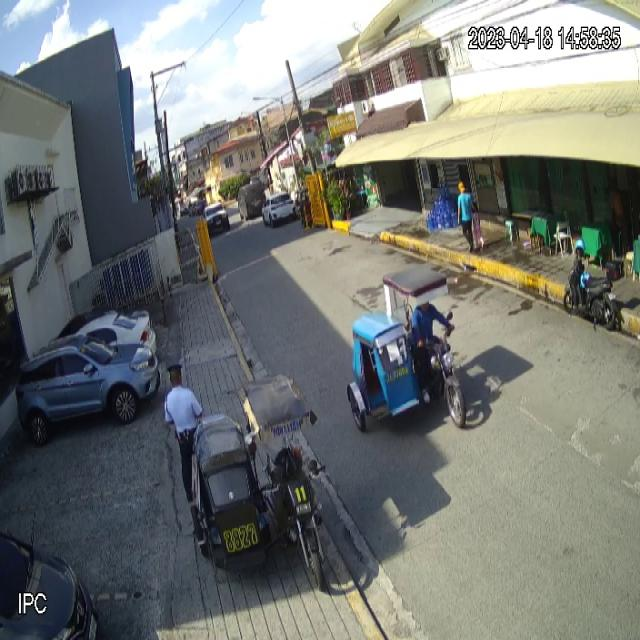Car: (17, 333, 162, 447)
Motorcycle: (563, 256, 626, 335)
Tricycle: (190, 371, 328, 593), (347, 265, 468, 432)
